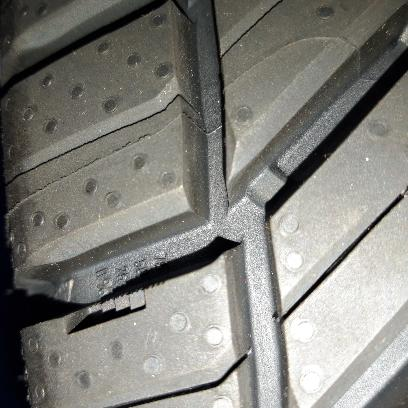temoin:100: (61, 276, 169, 336)
